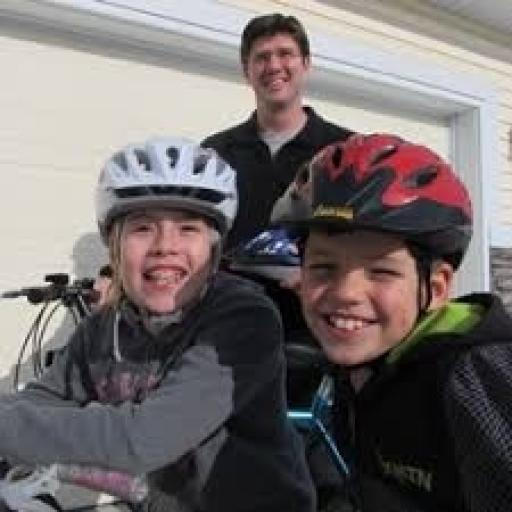cycling: (0, 136, 321, 510), (266, 130, 510, 510), (198, 9, 364, 257)
